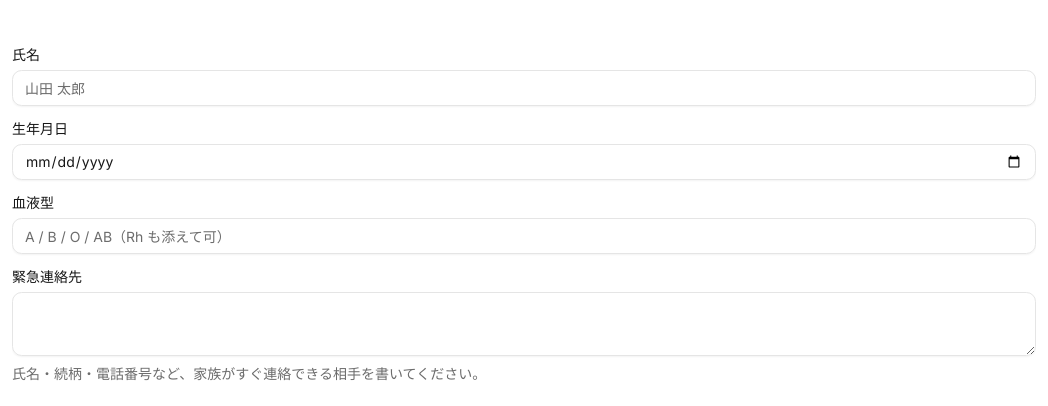
Test: SectionForm › re-sends the PATCH when 再試行 is clicked
Type "太郎" into the field labelled "氏名" at (524, 88), box [12,70,1036,106]
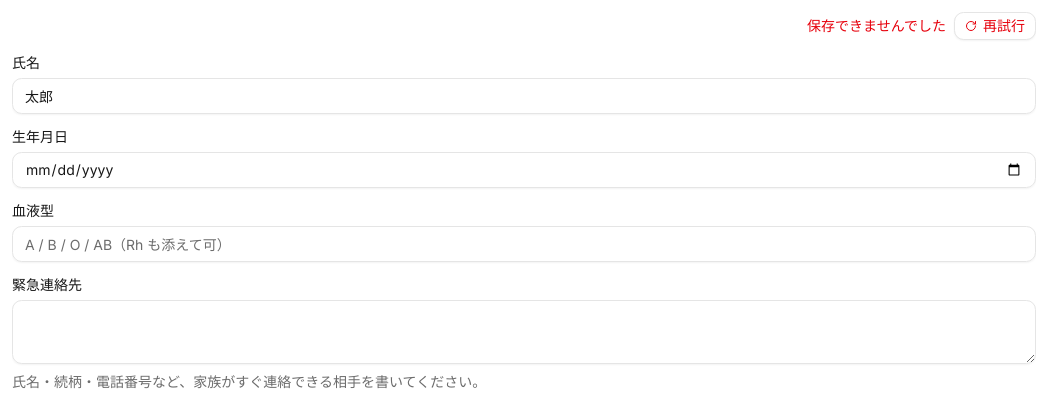
Click the button "再試行" at (995, 26), box [954,12,1036,40]
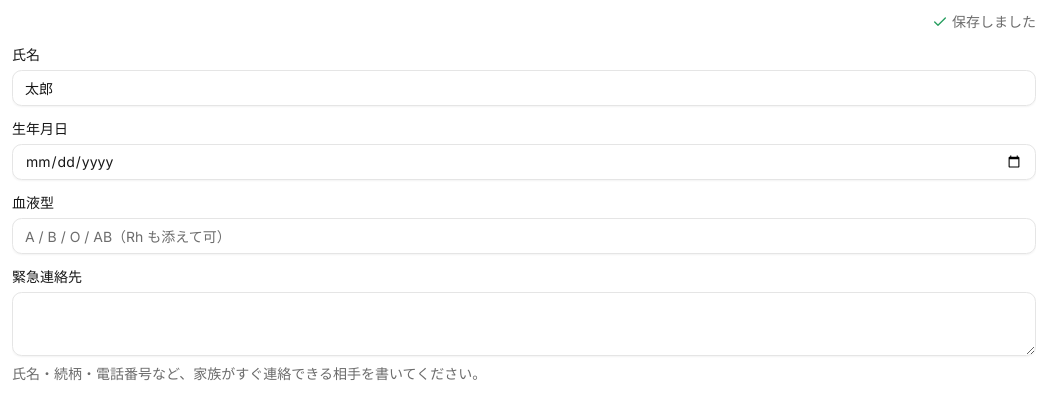
Now the message reads "保存しました", box [952,13,1036,30]
